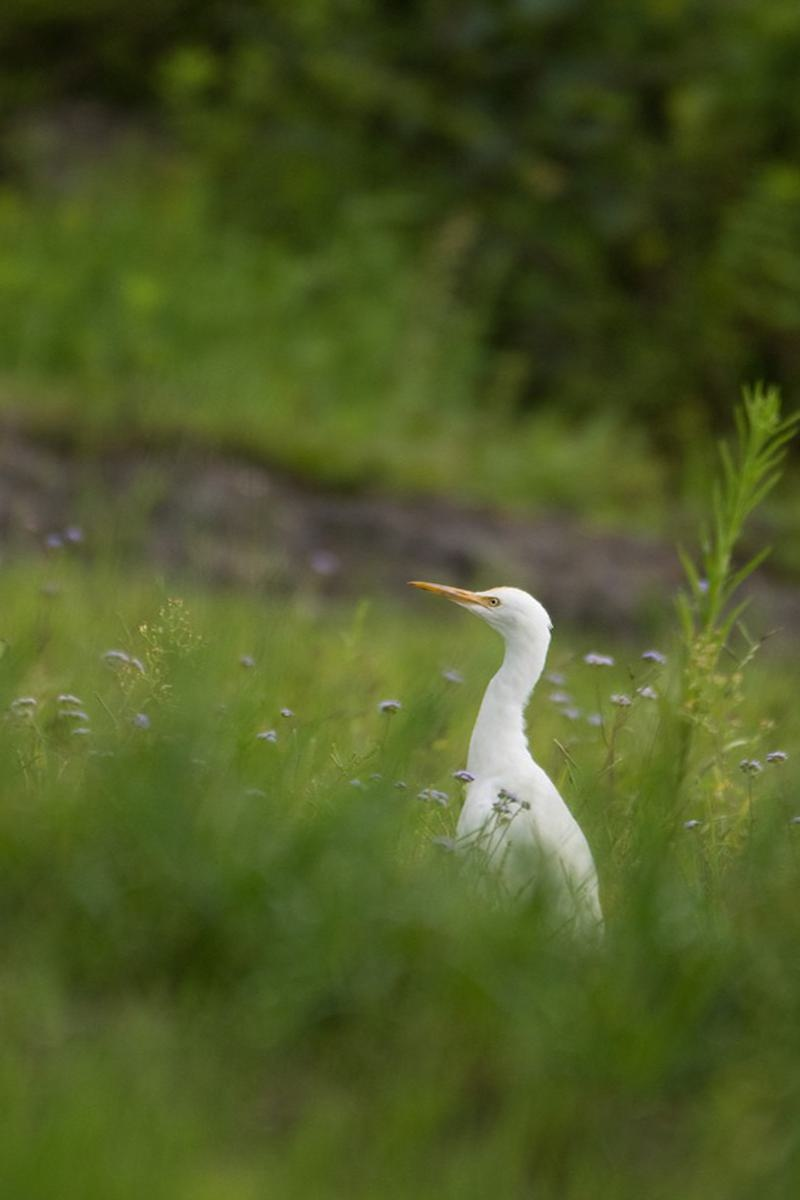egret: (402, 555, 612, 928)
